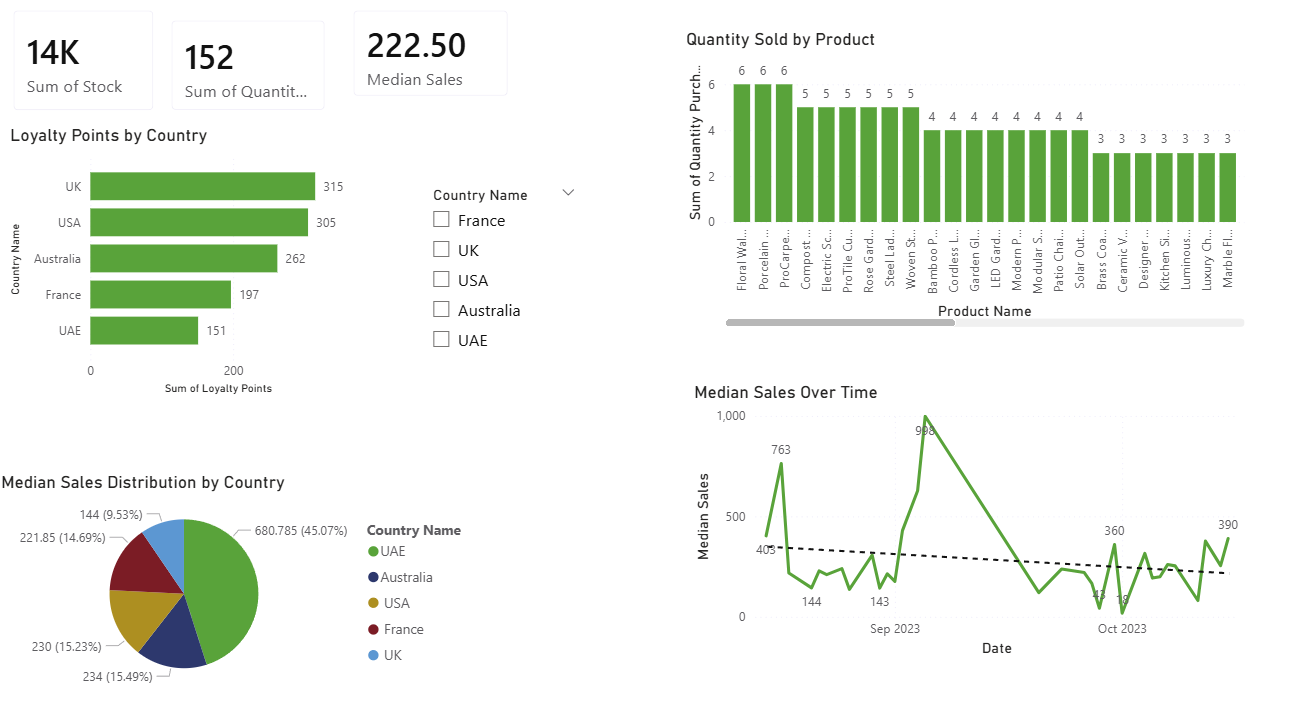

This screenshot's page, from the dashboard's own definition file:
{"tool":"powerbi","page":{"name":"Sales Overview","canvas":[1280,720],"ordinal":0},"visuals":[{"type":"clusteredBarChart","title":"Loyalty Points by Country","fields":{"Category":["Sales in USD.Country Name"],"Y":["Sum(Sales in USD. Loyalty Points)"]},"box":[8.8,128.4,347.2,266.5],"z":0},{"type":"clusteredColumnChart","title":"Quantity Sold by Product","fields":{"Category":["Sales in USD.Product Name"],"Y":["Sum(Sales in USD.Quantity Purchased)"]},"box":[666.3,35,553.4,294.7],"z":1000},{"type":"pieChart","title":"Median Sales Distribution by Country","fields":{"Category":["Sales in USD.Country Name"],"Y":["Sales in USD.Median Sales"]},"box":[0,465.9,473.7,217.9],"z":2000},{"type":"cardVisual","fields":{"Data":["Sum(Sales in USD. Stock  )"]},"box":[0,0,170.2,131.3],"z":3000},{"type":"cardVisual","fields":{"Data":["Sum(Sales in USD.Quantity Purchased)"]},"box":[153.7,9.7,183.8,121.6],"z":4000},{"type":"cardVisual","fields":{"Data":["Sales in USD.Median Sales"]},"box":[330.7,0,184.8,117.7],"z":5000},{"type":"slicer","fields":{"Values":["Sales in USD.Country Name"]},"box":[412.4,182.9,163.4,186.7],"z":6000},{"type":"lineChart","title":"Median Sales Over Time","fields":{"Y":["Sales in USD.Median Sales"],"Category":["CalendarTable.Date"]},"box":[674,378.4,553.4,271.4],"z":7000}]}

Visuals, with their boxes in screenshot pixels (x1, y1, x2, y2), scaled from the page's 1280x720 canvas onto the 1290x712 screenshot:
"Loyalty Points by Country" clusteredBarChart: Rect(9, 127, 359, 391)
"Quantity Sold by Product" clusteredColumnChart: Rect(672, 35, 1229, 326)
"Median Sales Distribution by Country" pieChart: Rect(0, 461, 477, 676)
cardVisual - Sum(Sales in USD. Stock  ): Rect(0, 0, 172, 130)
cardVisual - Sum(Sales in USD.Quantity Purchased): Rect(155, 10, 340, 130)
cardVisual - Sales in USD.Median Sales: Rect(333, 0, 520, 116)
slicer - Sales in USD.Country Name: Rect(416, 181, 580, 365)
"Median Sales Over Time" lineChart: Rect(679, 374, 1237, 643)
